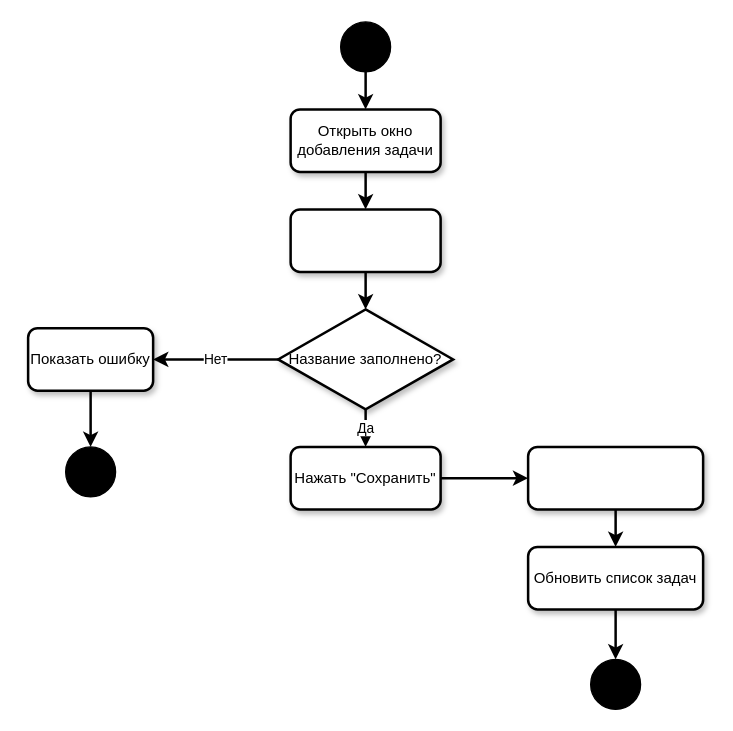
Some shapes in this 733 by 731 pixel diagram are drawn without their labels. Each missing label, with the centre of its shape:
Заполнить поля формы: pixel 366 241
Сохранить в БД (INSERT): pixel 616 479
